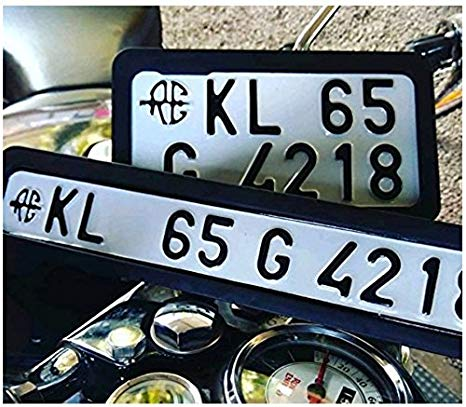number_plate: (5, 148, 463, 365)
